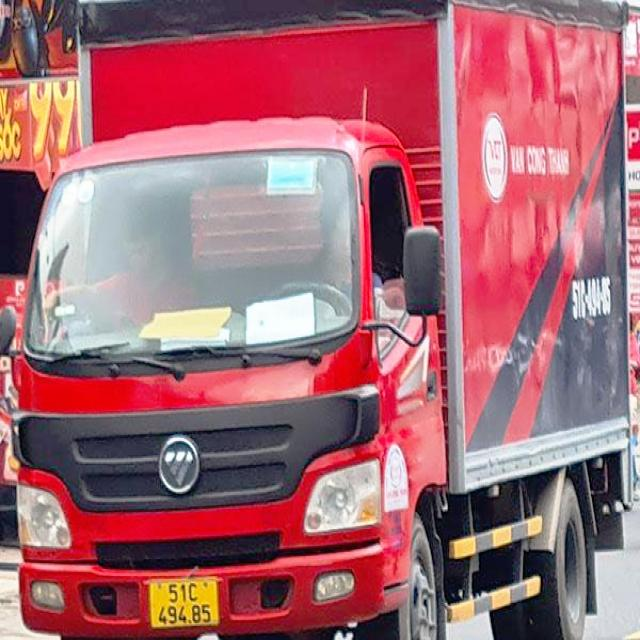license_plate: (153, 581, 217, 628)
